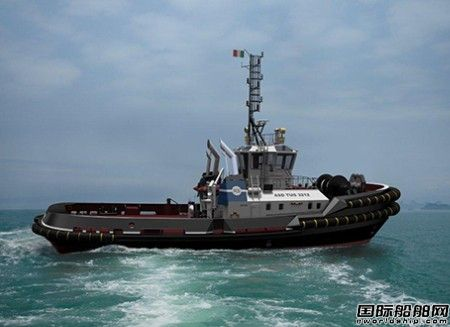otherboat: (34, 75, 401, 252)
